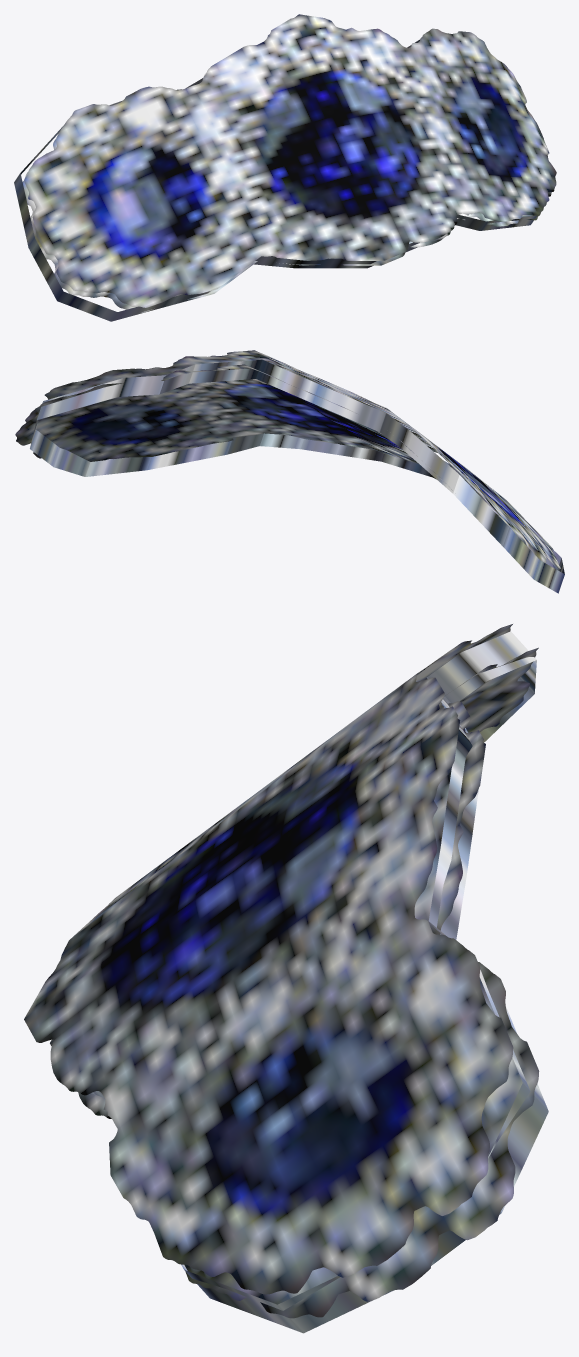
The model's file is jewel.FBX.
3 views of the same model, one above another, from view 1: azimuth 30°, elevation 25°; view 2: azimuth 150°, elevation 25°; view 3: azimuth 270°, elevation 25° (orthographic). The views are drawn at different scales.
Visible parts, largest first — view 1: Object16; view 2: Object16; view 3: Object16.
Part boxes in pixels (x1,y1,x2,y2): Object16: [14, 14, 556, 321]; Object16: [15, 350, 564, 593]; Object16: [24, 624, 548, 1333].
Bounding box in the file's own units: 4.69 × 1.85 × 2.15.
